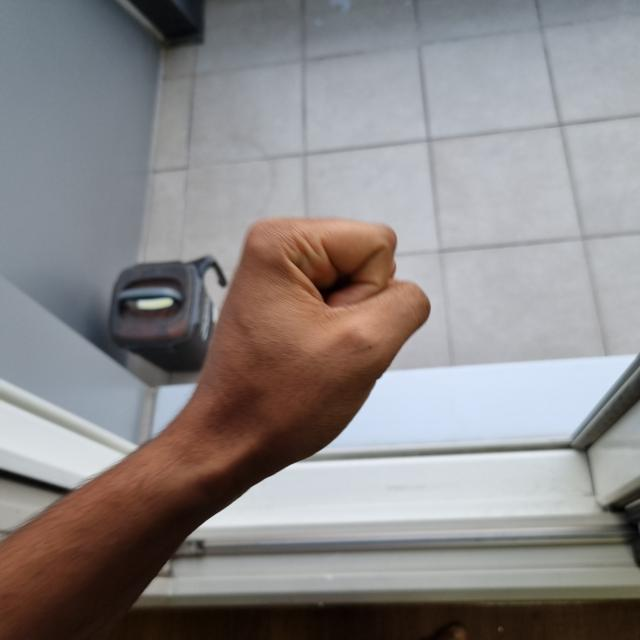Rock: (191, 216, 429, 465)
